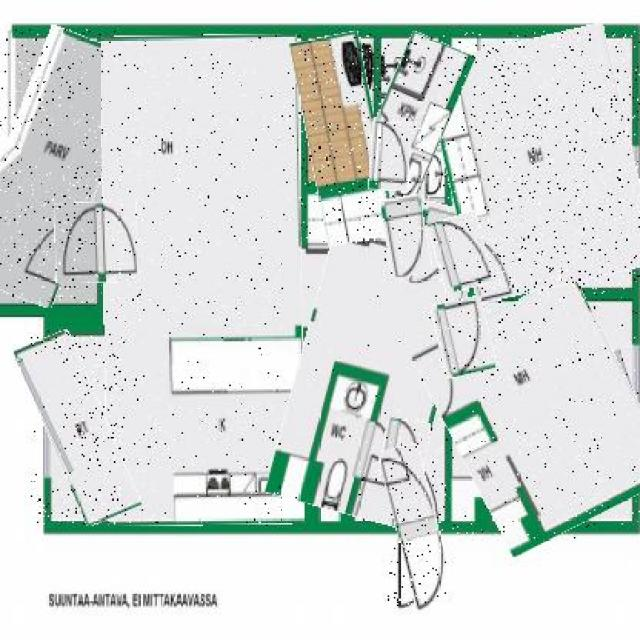door: (388, 444, 446, 610), (55, 202, 137, 283), (436, 298, 492, 377), (434, 212, 489, 291), (383, 195, 429, 277), (382, 418, 428, 484), (369, 123, 411, 191)
window: (30, 356, 61, 476), (620, 348, 640, 466), (621, 146, 640, 269)
zone: (103, 34, 303, 526), (285, 188, 469, 523), (435, 31, 640, 294), (431, 286, 640, 542), (0, 29, 122, 303), (30, 330, 124, 524), (299, 34, 386, 243), (363, 34, 462, 205)
